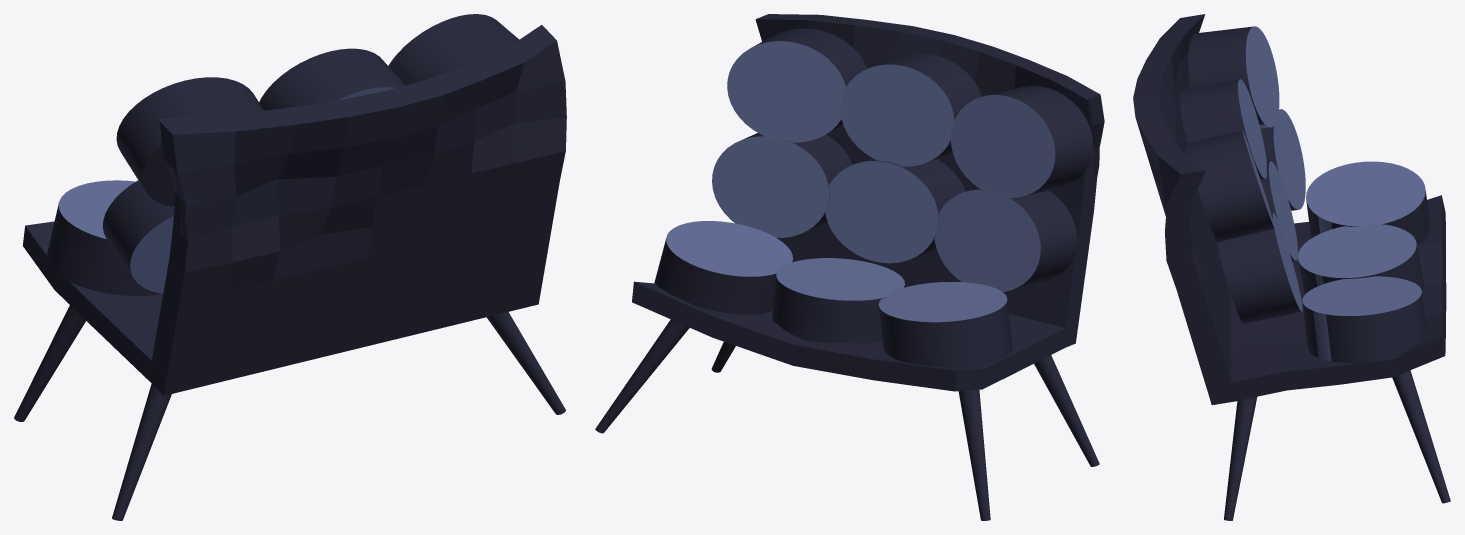
The model's file is sillon.obj.
3 views of the same model, side by side, from view 1: azimuth 30°, elevation 25°; view 2: azimuth 150°, elevation 25°; view 3: azimuth 270°, elevation 25° (orthographic). The views are drawn at different scales.
Visible parts, largest first — view 1: polySurface13; view 2: polySurface13; view 3: polySurface13.
Boxes of the visible parts, x1,y1,x2,y2 form: polySurface13: (14,14,566,520); polySurface13: (595,14,1104,520); polySurface13: (1133,14,1450,520).
Size of the model in its own units: 3.06 by 2.66 by 2.22.
